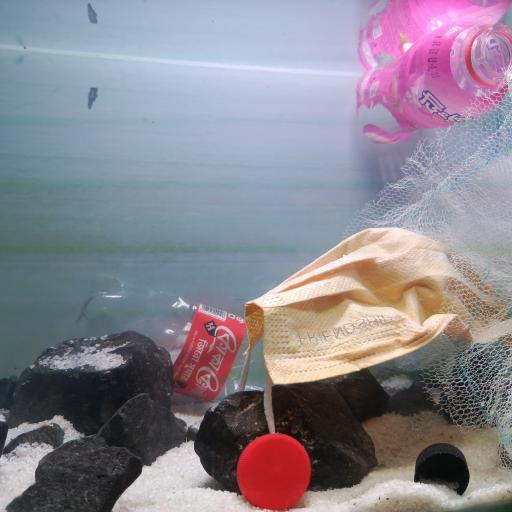bottle_cap: (236, 433, 312, 510), (416, 442, 471, 496)
mask: (245, 226, 512, 436)
net: (339, 68, 512, 468)
plastic_bottle: (70, 274, 268, 396), (359, 19, 512, 145)
